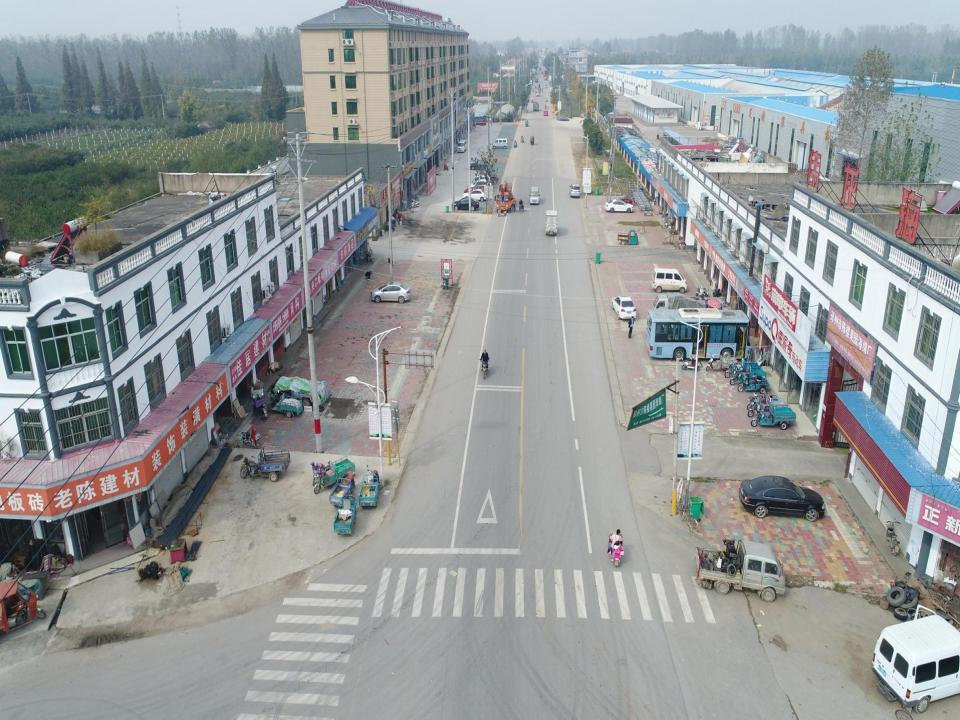bus: (645, 308, 750, 362)
car: (736, 475, 826, 522), (370, 280, 411, 304), (610, 292, 638, 320), (604, 199, 634, 213), (452, 196, 479, 211), (460, 189, 487, 204), (463, 185, 490, 198), (468, 157, 494, 170), (466, 180, 493, 190), (567, 182, 581, 199), (579, 116, 595, 128), (543, 109, 549, 116)
truck: (652, 292, 708, 324), (533, 101, 539, 113)
van: (870, 602, 960, 714), (651, 266, 688, 294), (528, 186, 541, 207), (491, 137, 508, 150), (456, 138, 468, 155), (471, 175, 491, 184)
